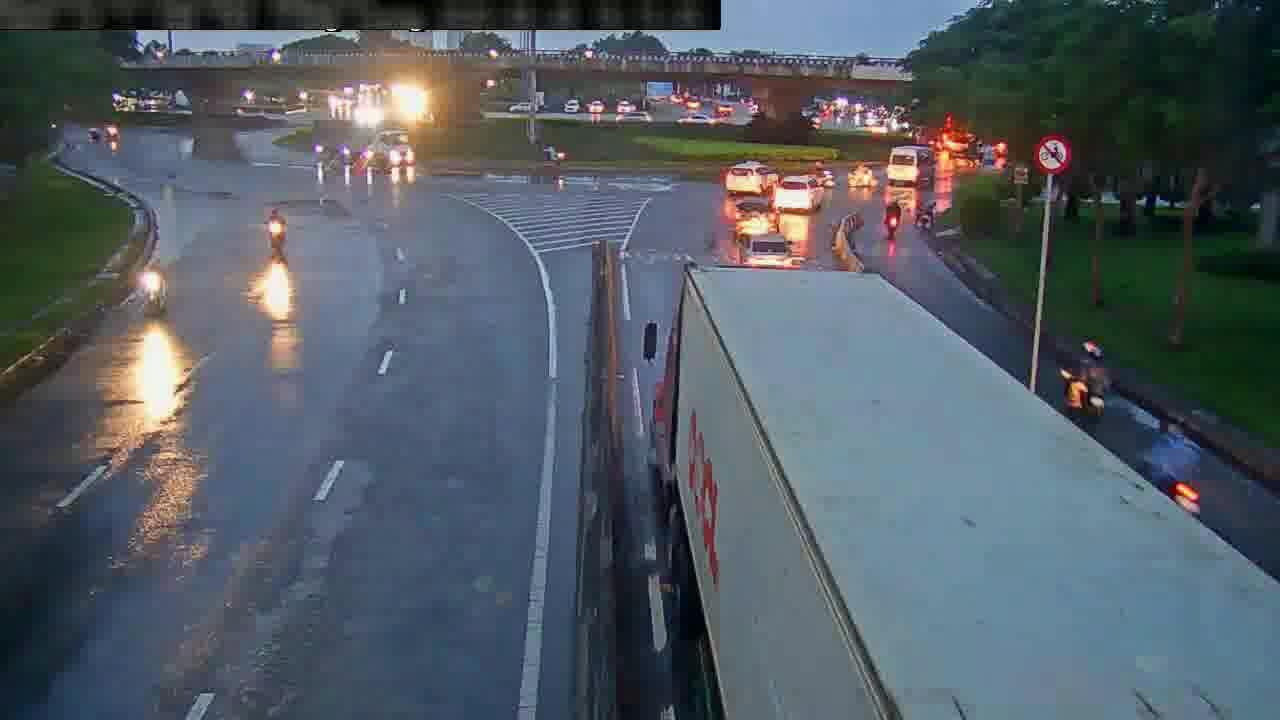14: (885, 144, 939, 185)
8: (647, 261, 1272, 720), (306, 116, 417, 176), (726, 156, 781, 195)
container: (735, 228, 793, 267), (769, 173, 827, 210), (727, 195, 781, 234)
motorbike: (1150, 414, 1202, 521), (1059, 340, 1109, 424), (139, 253, 171, 313), (266, 206, 283, 259), (882, 192, 900, 242)
